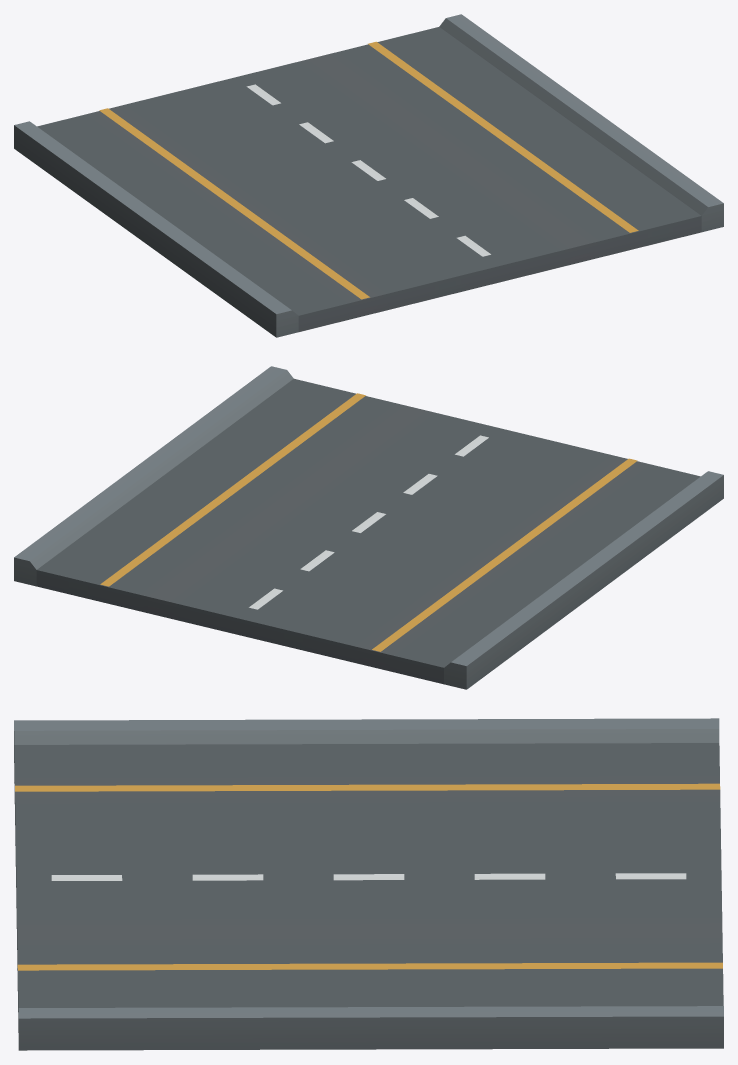
File: roadq_lev3.glb
The picture shows the model from 3 angles, top to bottom: view 1: azimuth 30°, elevation 25°; view 2: azimuth 150°, elevation 25°; view 3: azimuth 270°, elevation 25°; orthographic projection. The views are drawn at different scales.
Parts seen in each view (by area): view 1: road_straight.002; view 2: road_straight.002; view 3: road_straight.002.
Part boxes in pixels (left/top/right/bottom): road_straight.002: left=14, top=14, right=723, bottom=337; road_straight.002: left=14, top=366, right=723, bottom=689; road_straight.002: left=14, top=718, right=723, bottom=1050.
Size of the model in its own units: 18.75 by 0.9321 by 18.75.
Materials: 1 (1 with a texture image).
